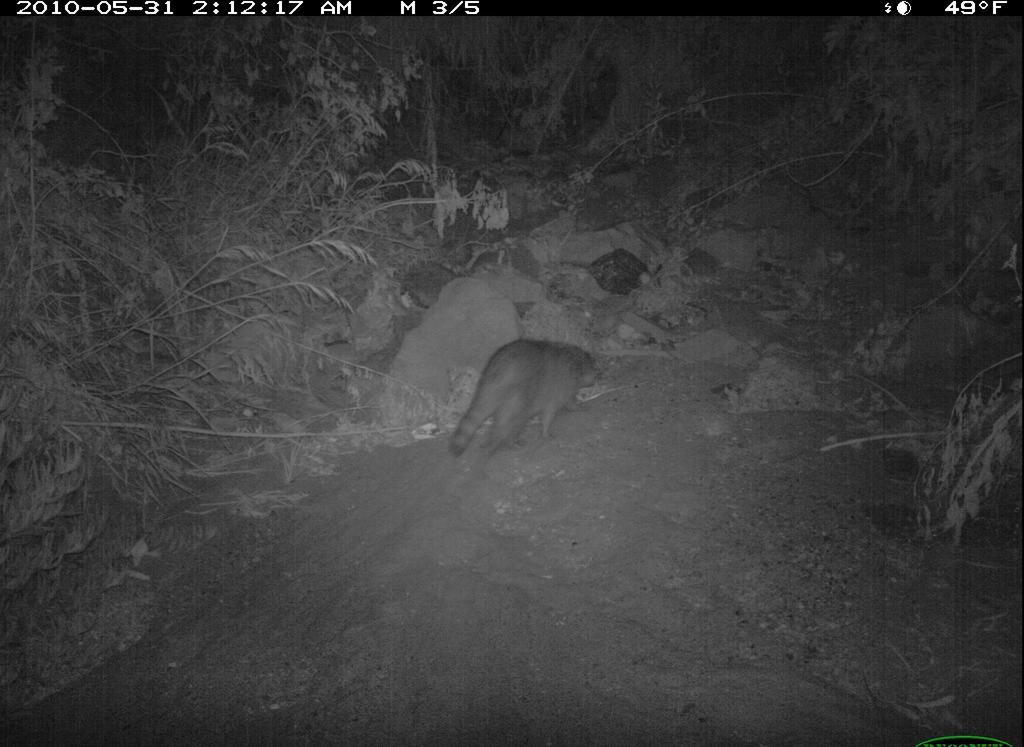raccoon: (442, 324, 607, 466)
